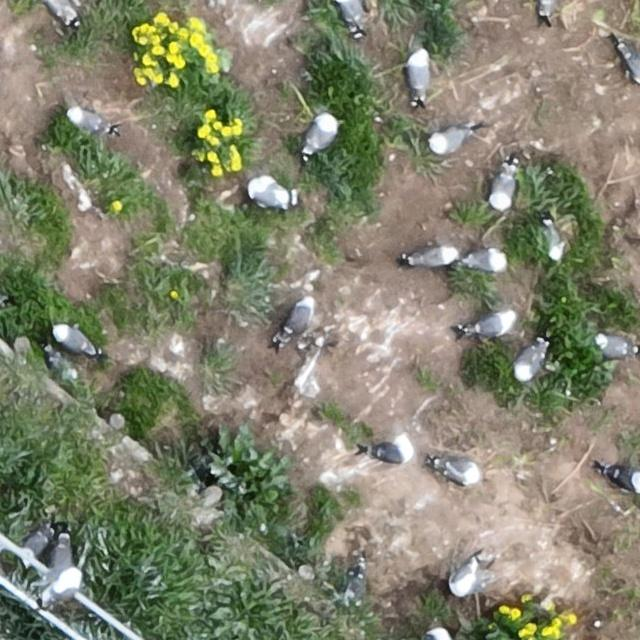umineko: (42, 566, 87, 604), (280, 297, 316, 343), (450, 559, 492, 597), (304, 114, 336, 153), (367, 436, 415, 462), (408, 245, 461, 268), (21, 527, 54, 561), (251, 182, 291, 208), (492, 173, 516, 211), (442, 461, 480, 485), (430, 128, 469, 151), (55, 328, 91, 352), (516, 346, 542, 379), (410, 54, 429, 98), (472, 312, 511, 333), (464, 251, 504, 271), (69, 111, 105, 133), (339, 0, 363, 30), (607, 468, 639, 490), (598, 335, 632, 355), (545, 223, 564, 258), (45, 1, 74, 23), (623, 48, 639, 83), (540, 0, 557, 17)
